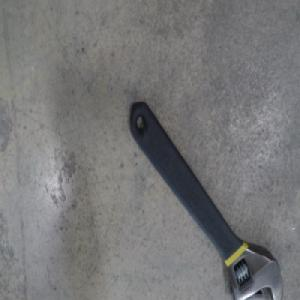AdjustableWrench: (128, 101, 282, 299)
